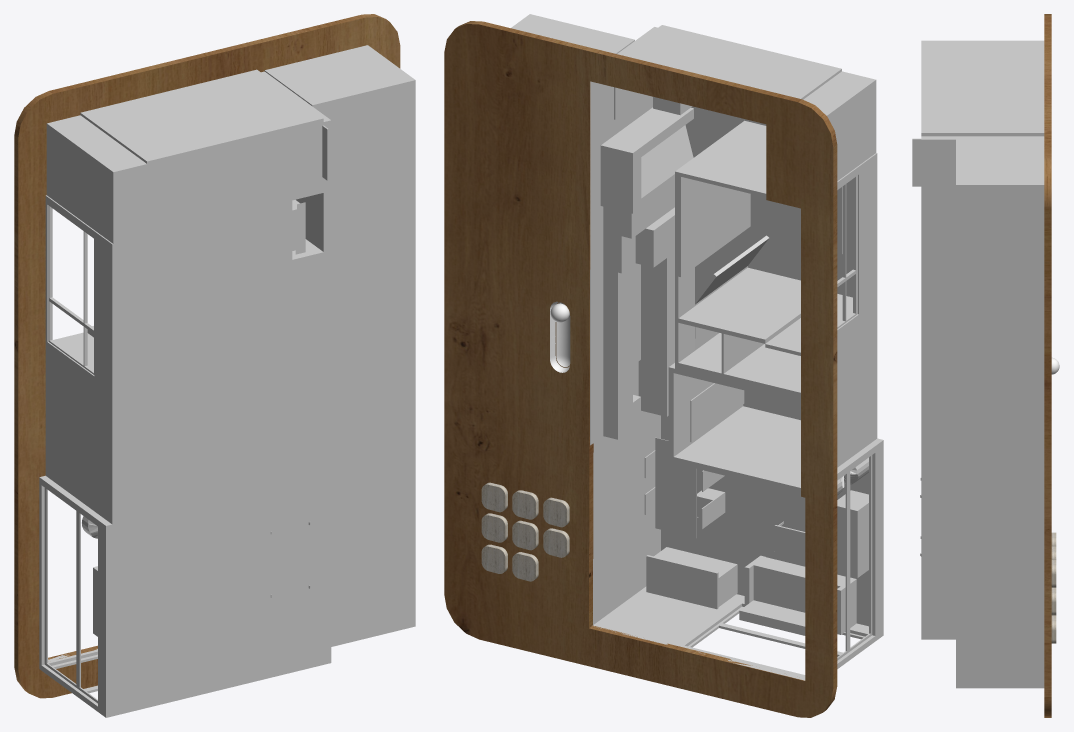
The model's file is DigitalTwin_01.fbx.
3 views of the same model, side by side, from view 1: azimuth 30°, elevation 25°; view 2: azimuth 150°, elevation 25°; view 3: azimuth 270°, elevation 25° (orthographic). The views are drawn at different scales.
Parts seen in each view (by area): view 1: WallModel; view 2: WallModel; view 3: WallModel.
Boxes of the visible parts, x1,y1,x2,y2 form: WallModel: (14, 14, 415, 717); WallModel: (444, 14, 883, 717); WallModel: (912, 14, 1059, 717).
Bounding box in the file's own units: 0.5552 × 0.8388 × 0.2012.
Materials: 3 (2 with a texture image).
